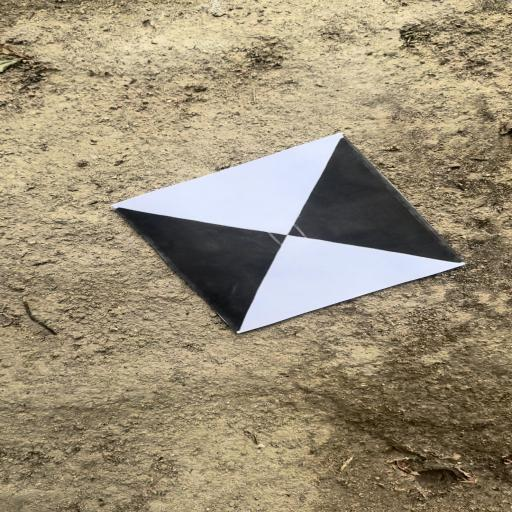target: (119, 133, 466, 334)
